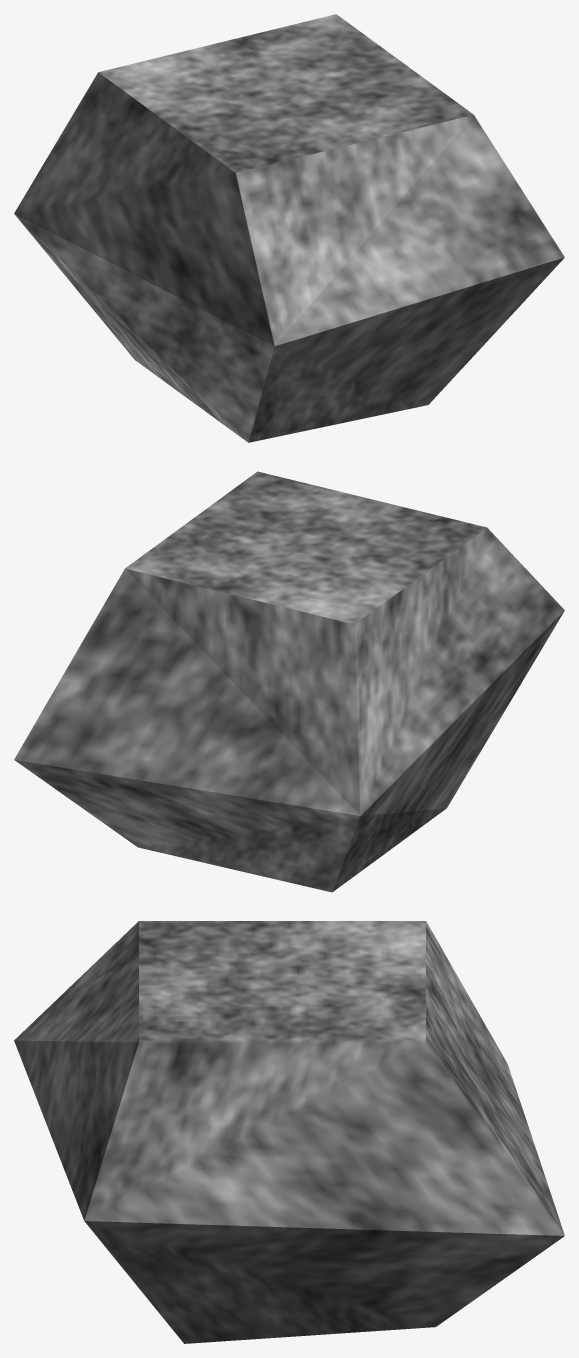
File: Debris.obj
3 renders of one model, top to bottom at view 1: azimuth 30°, elevation 25°; view 2: azimuth 150°, elevation 25°; view 3: azimuth 270°, elevation 25°, orthographic. The views are drawn at different scales.
Visible parts, largest first — view 1: Cube; view 2: Cube; view 3: Cube.
Part boxes in pixels (x1,y1,x2,y2): Cube: (14, 14, 564, 442); Cube: (14, 471, 564, 892); Cube: (14, 921, 564, 1343).
Size of the model in its own units: 8.32 by 6.85 by 10.91.
Materials: 1 (1 with a texture image).
